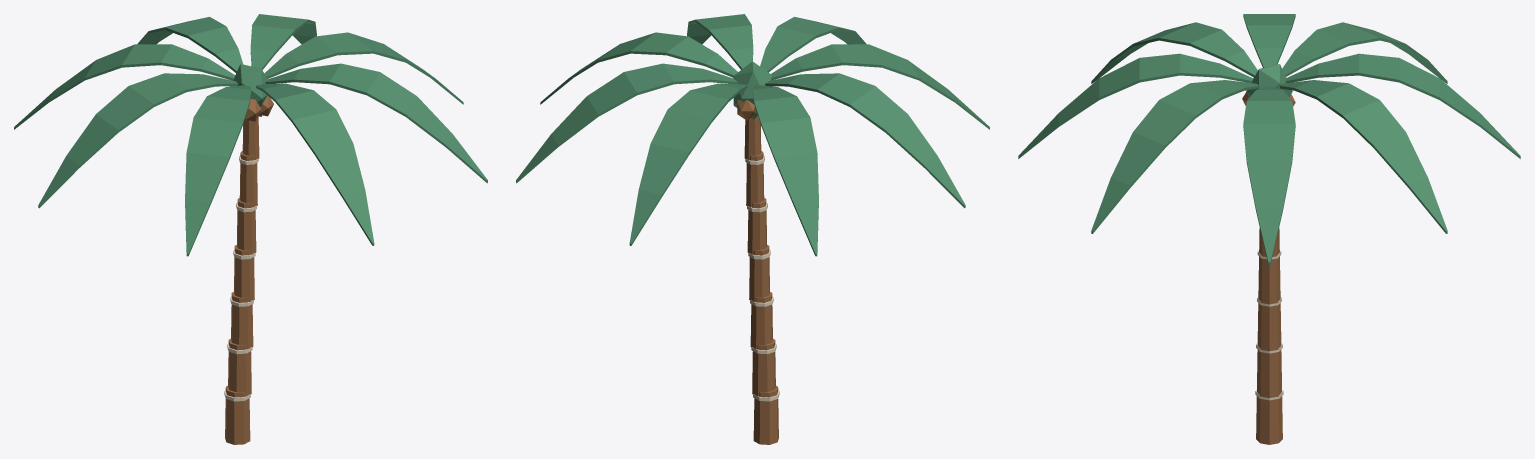
File: LM_PROP_PalmMamak.glb
3 renders of one model, left to right at view 1: azimuth 30°, elevation 25°; view 2: azimuth 150°, elevation 25°; view 3: azimuth 270°, elevation 25°, orthographic. The views are drawn at different scales.
Parts seen in each view (by area): view 1: LM_PROP_PalmMamak; view 2: LM_PROP_PalmMamak; view 3: LM_PROP_PalmMamak.
Part boxes in pixels (<box>): LM_PROP_PalmMamak: <box>14,14,487,444</box>; LM_PROP_PalmMamak: <box>516,14,989,444</box>; LM_PROP_PalmMamak: <box>1018,14,1520,444</box>.
Size of the model in its own units: 8.6 by 7.23 by 8.6.
